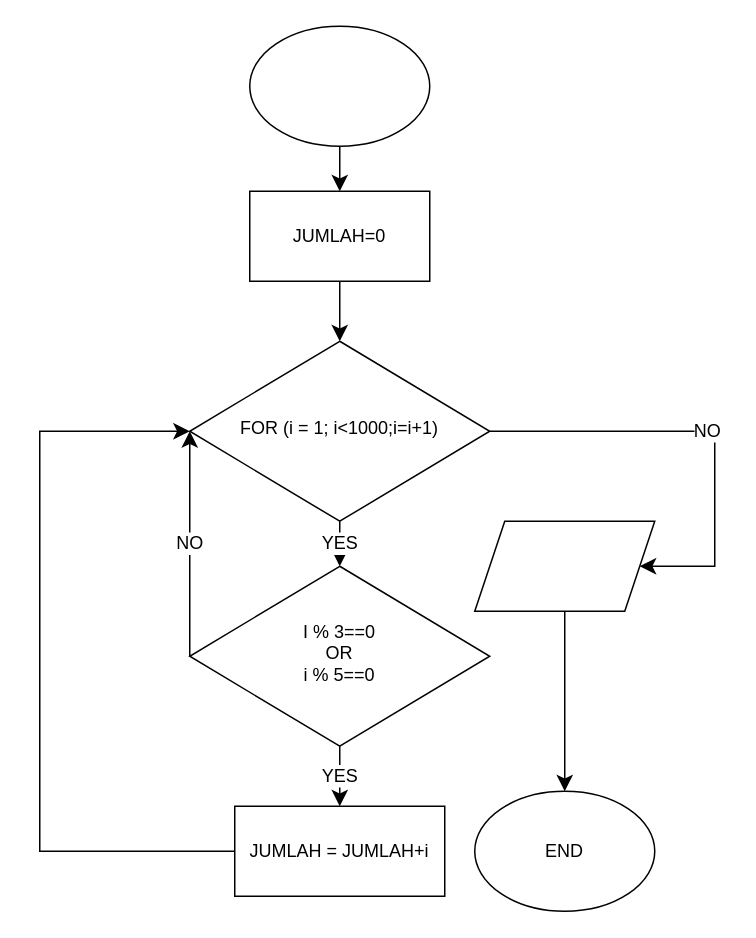
Some shapes in this 756 by 938 pixel diagram are drawn without their labels. Here are the shapes that lost their labels. From the top down, the box of each, then its label:
(248, 25, 430, 146): START
(473, 520, 655, 611): PRINT JUMLAH
